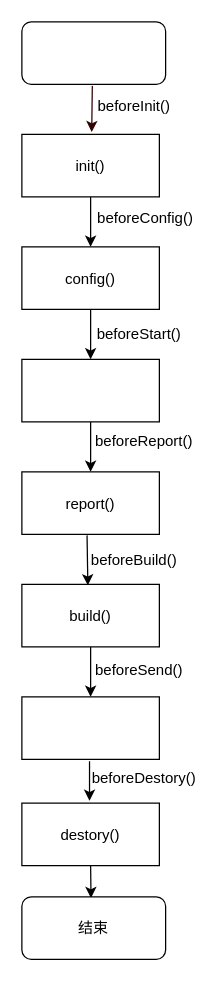
This 218x981 diagram has some shape labels left out. The shapes that lost their labels are listed below. From the top down, each one's centre as x and y in pixels, then its label:
point 93,52: 开始
point 90,390: start()
point 90,727: send()
